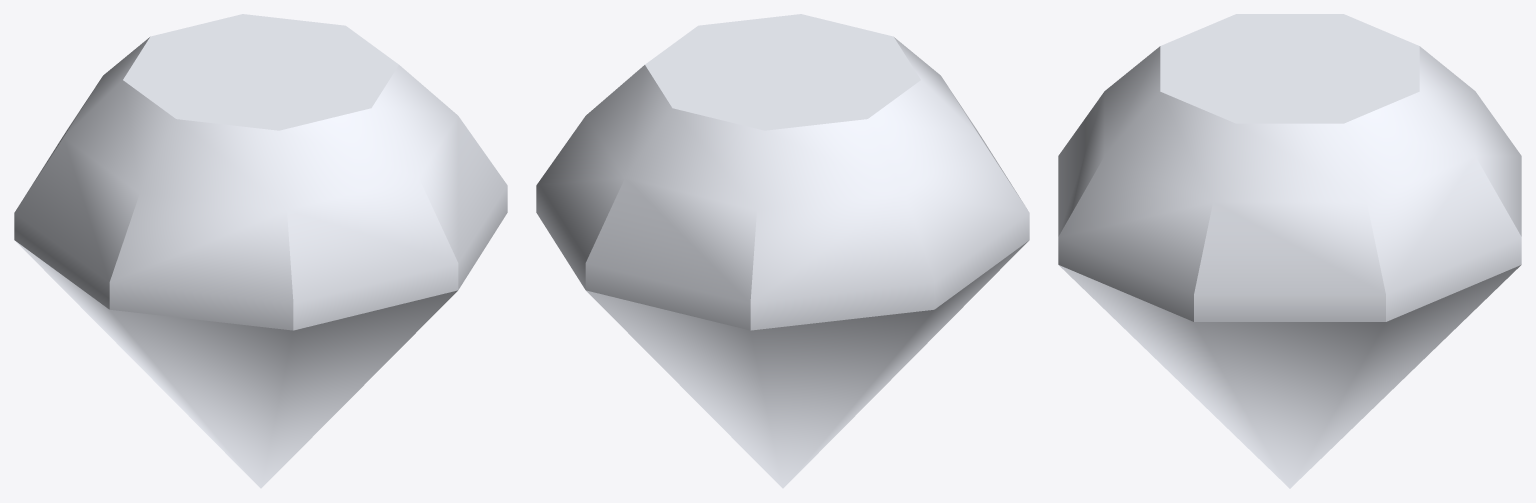
Rendered from 111_gemme.fbx.
3 views of the same model, side by side, from view 1: azimuth 30°, elevation 25°; view 2: azimuth 150°, elevation 25°; view 3: azimuth 270°, elevation 25° (orthographic).
Visible parts, largest first — view 1: Gemme; view 2: Gemme; view 3: Gemme.
Boxes of the visible parts, x1,y1,x2,y2 form: Gemme: [14, 14, 507, 488]; Gemme: [536, 14, 1029, 488]; Gemme: [1058, 14, 1521, 488].
Bounding box in the file's own units: 0.28 × 0.28 × 0.28.
1 material, 1 textured.
